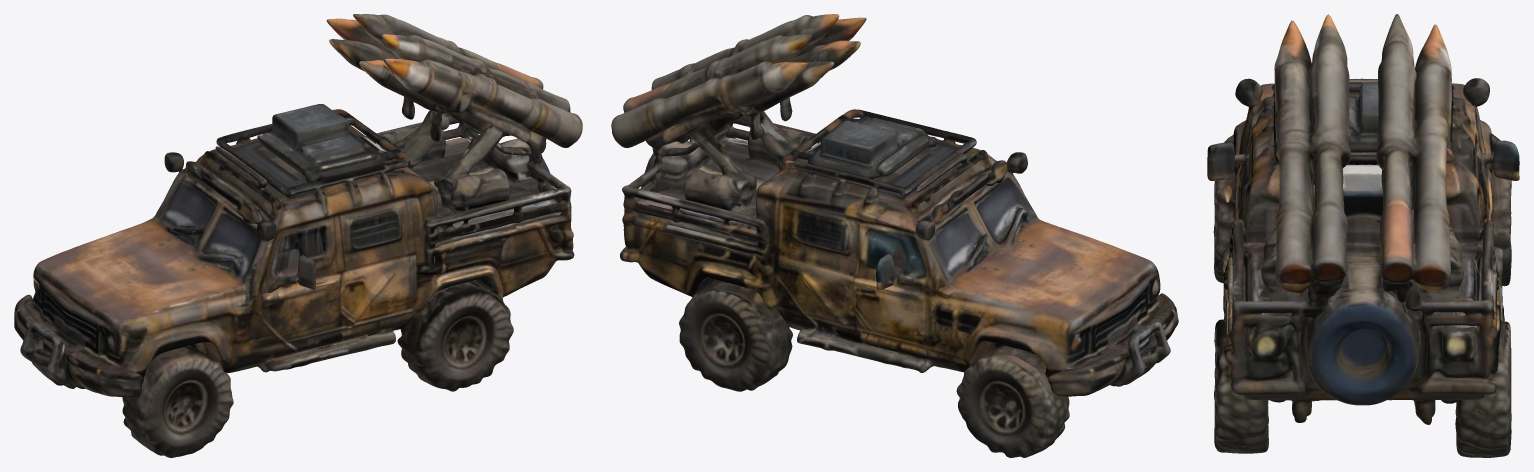
Rendered from rover3d.glb.
3 views of the same model, side by side, from view 1: azimuth 30°, elevation 25°; view 2: azimuth 150°, elevation 25°; view 3: azimuth 270°, elevation 25° (orthographic). The views are drawn at different scales.
Bounding box in the file's own units: 1.99 × 1.23 × 0.8413.
Materials: 1 (1 with a texture image).
